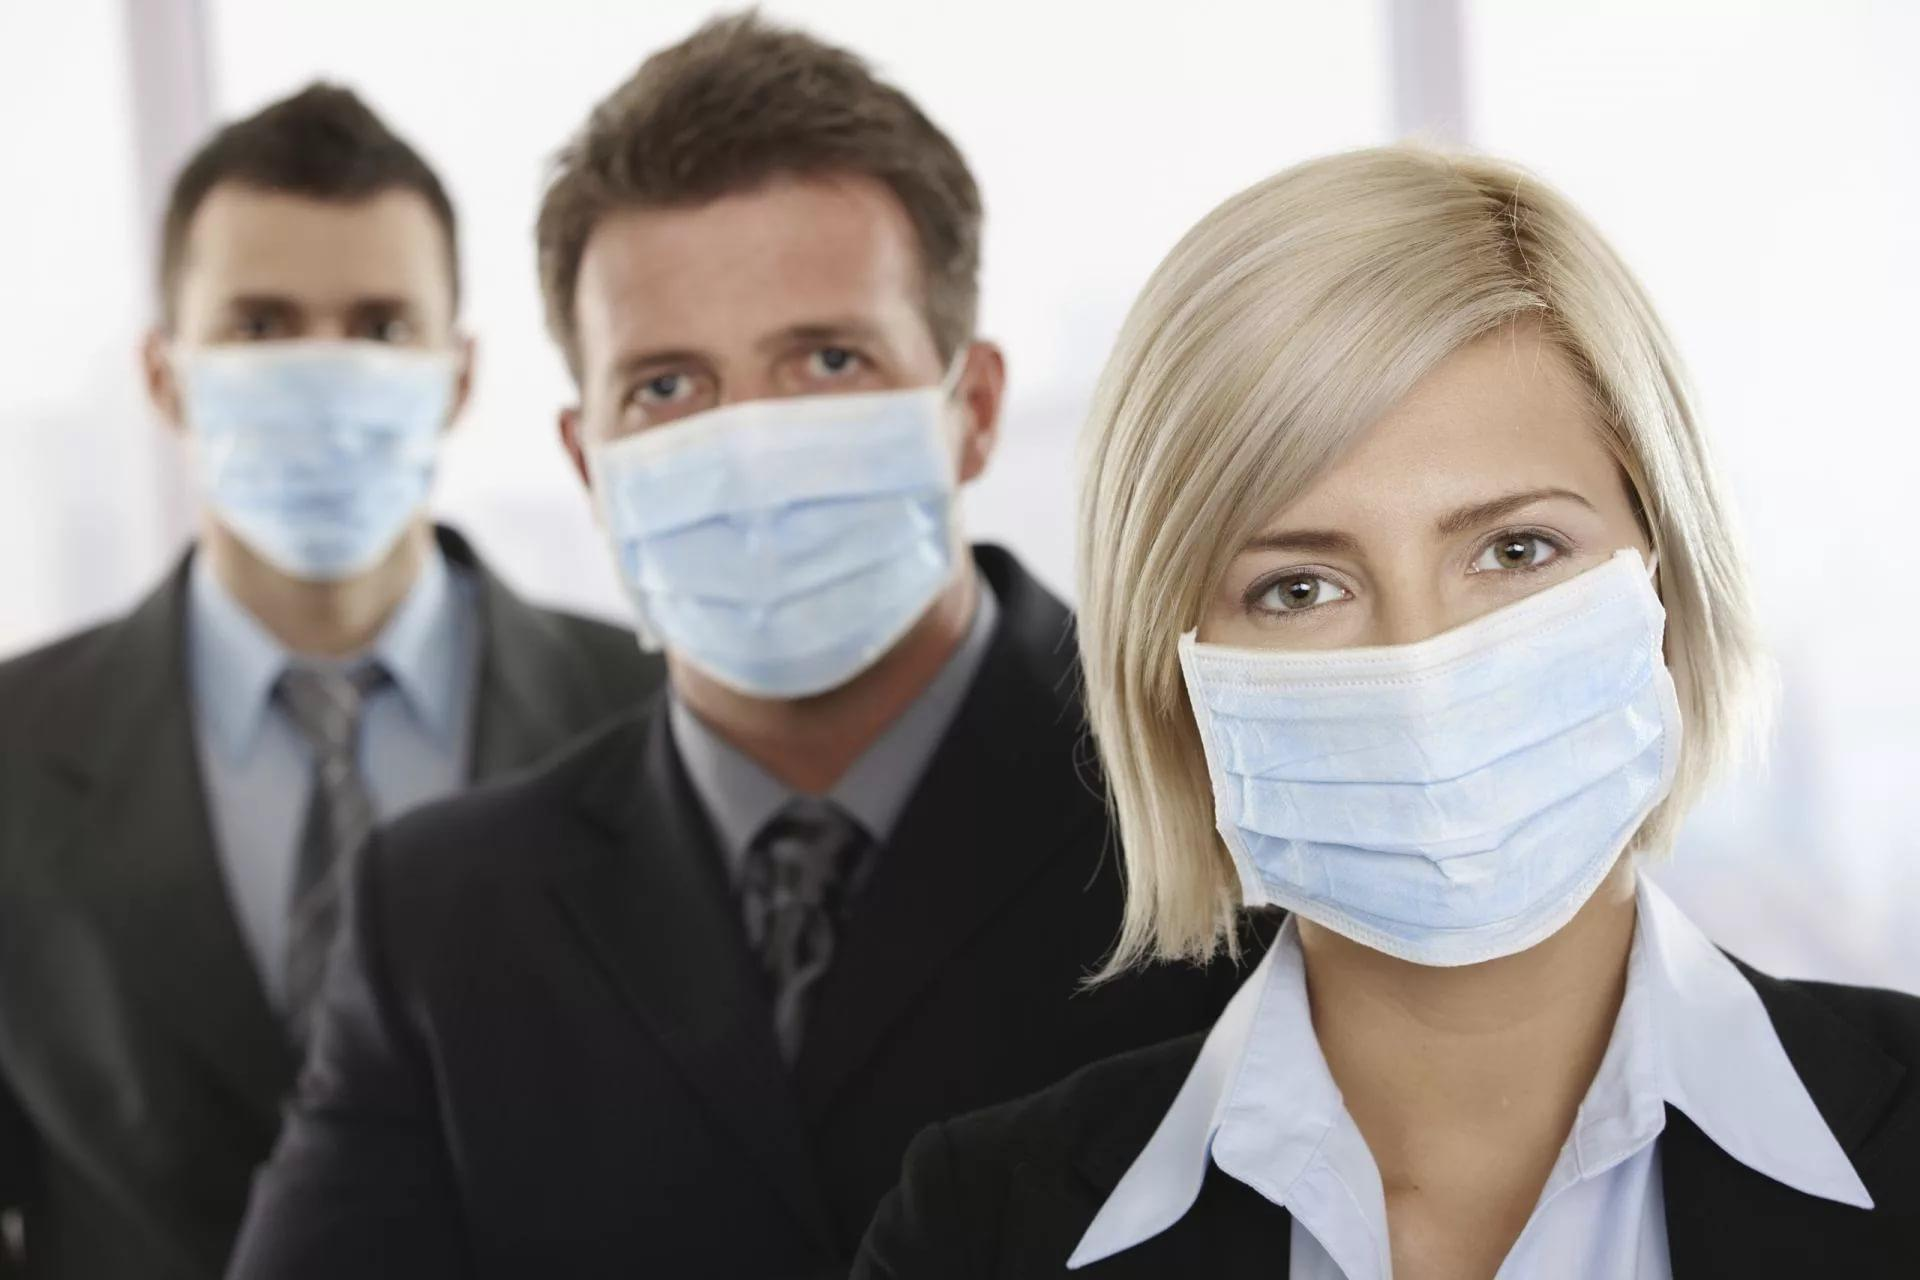mask: (1137, 339, 1694, 990), (586, 190, 957, 686), (157, 179, 471, 594)
